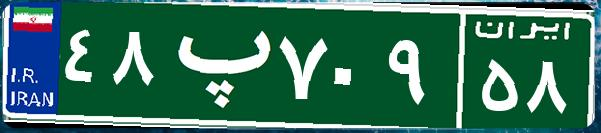0: (330, 28, 385, 110)
4: (57, 26, 110, 107)
5: (475, 38, 525, 113)
7: (273, 28, 330, 110)
8: (110, 28, 158, 105), (525, 38, 570, 115)
9: (385, 28, 445, 110)
پ: (158, 15, 273, 115)
